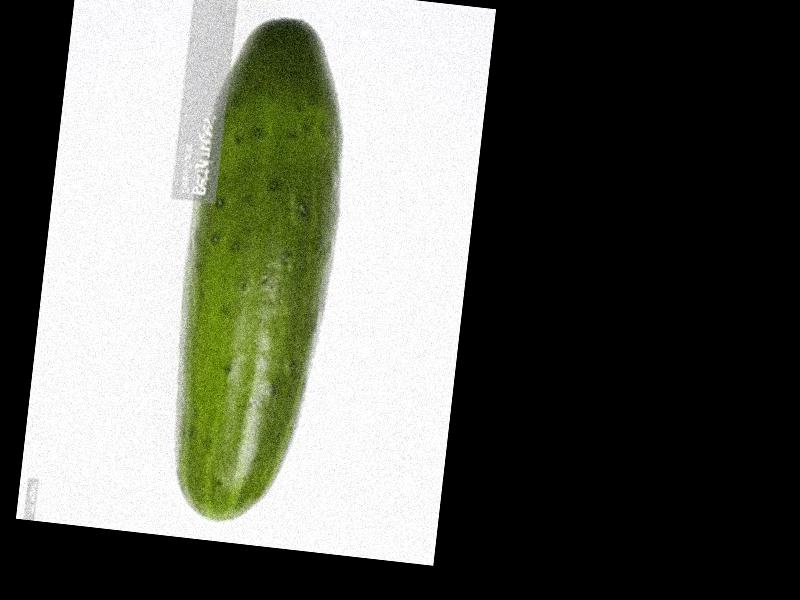Cucumber: (157, 4, 362, 533)
